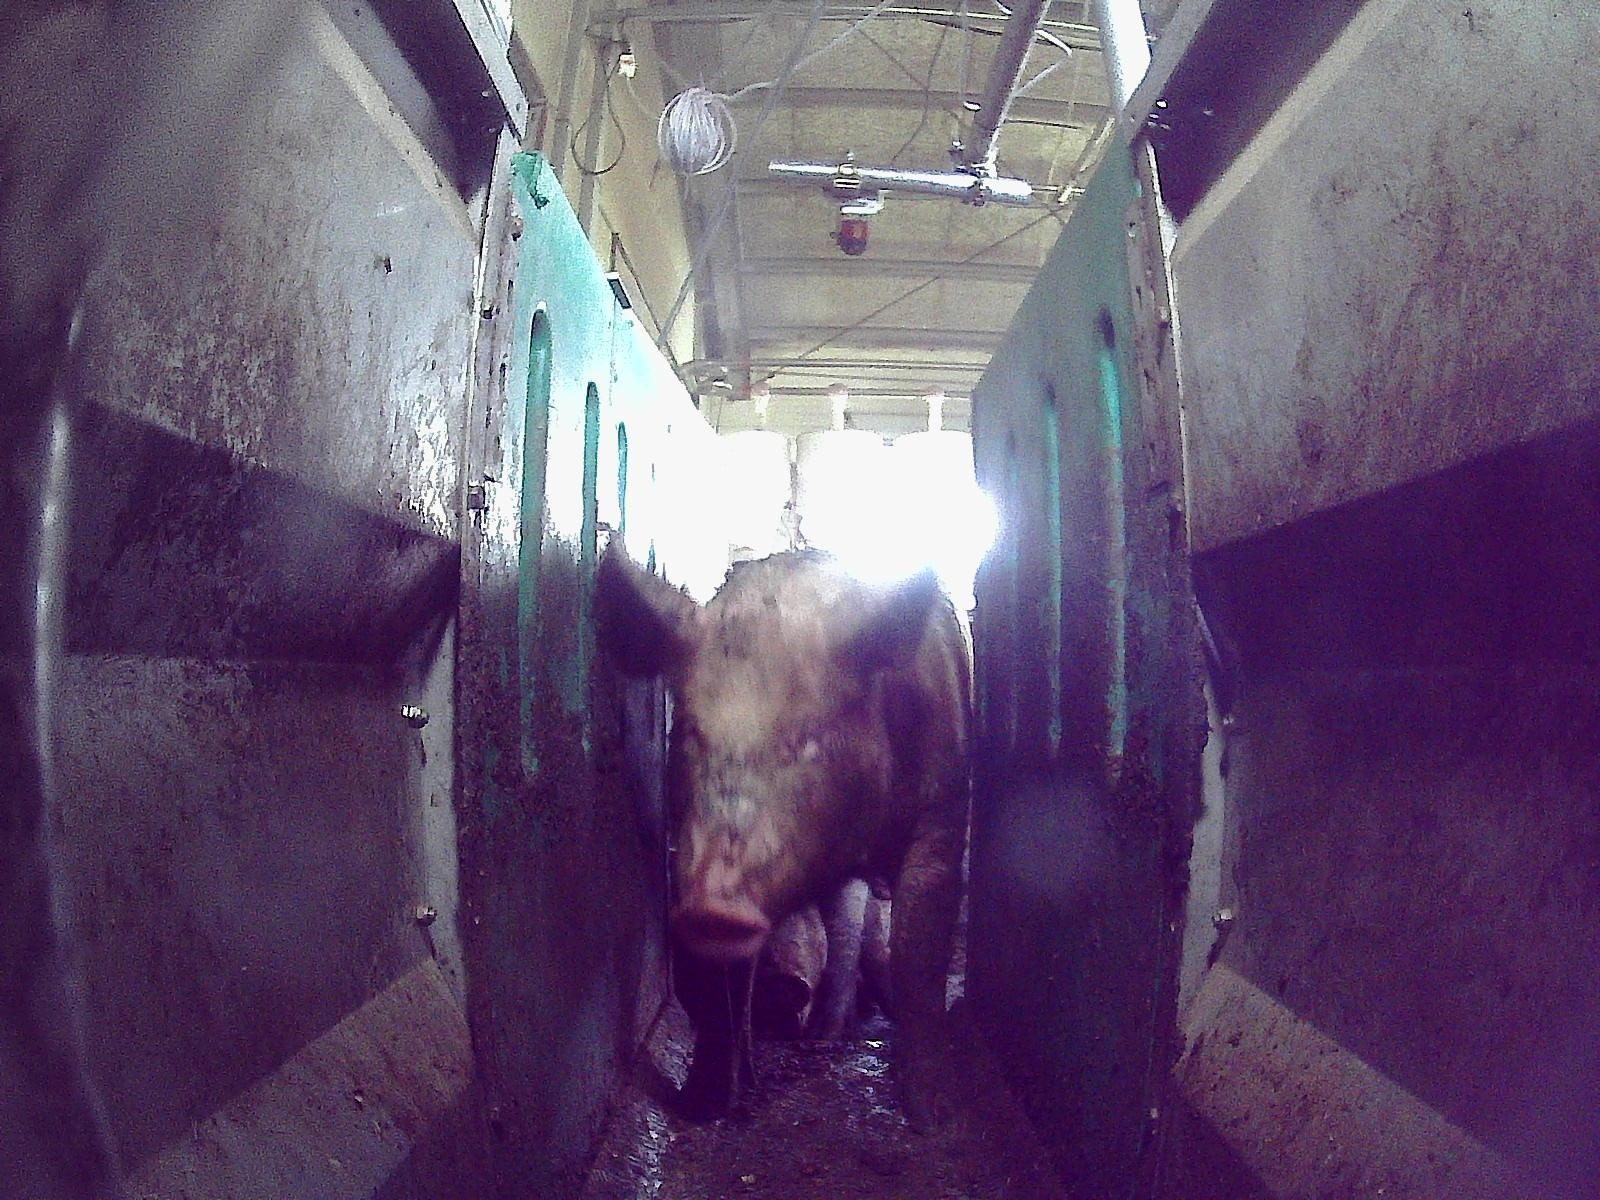Face: (660, 634, 894, 957)
